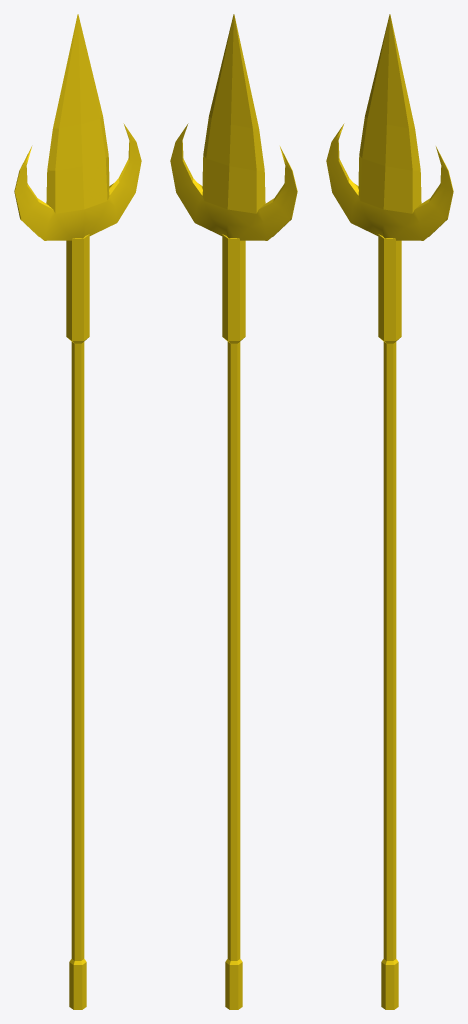
The model's file is npc_Loki_Staff.fbx.
The picture shows the model from 3 angles, left to right: view 1: azimuth 30°, elevation 25°; view 2: azimuth 150°, elevation 25°; view 3: azimuth 330°, elevation 25°; orthographic projection.
Parts seen in each view (by area): view 1: Spear; view 2: Spear; view 3: Spear.
Part boxes in pixels (<box>): Spear: <box>14,14,141,1009</box>; Spear: <box>170,14,297,1009</box>; Spear: <box>326,14,453,1009</box>.
Bounding box in the file's own units: 21.92 × 164 × 3.97.
Materials: 1 (1 with a texture image).
